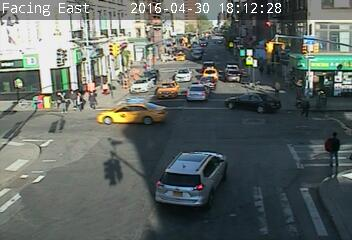neg: (250, 115, 273, 146), (95, 163, 110, 183), (11, 119, 25, 138), (209, 86, 223, 105), (49, 117, 62, 134), (17, 98, 30, 115), (3, 105, 15, 121)
pos: (314, 126, 350, 174), (267, 78, 285, 102), (84, 90, 100, 112), (299, 98, 315, 120), (71, 89, 87, 110)
